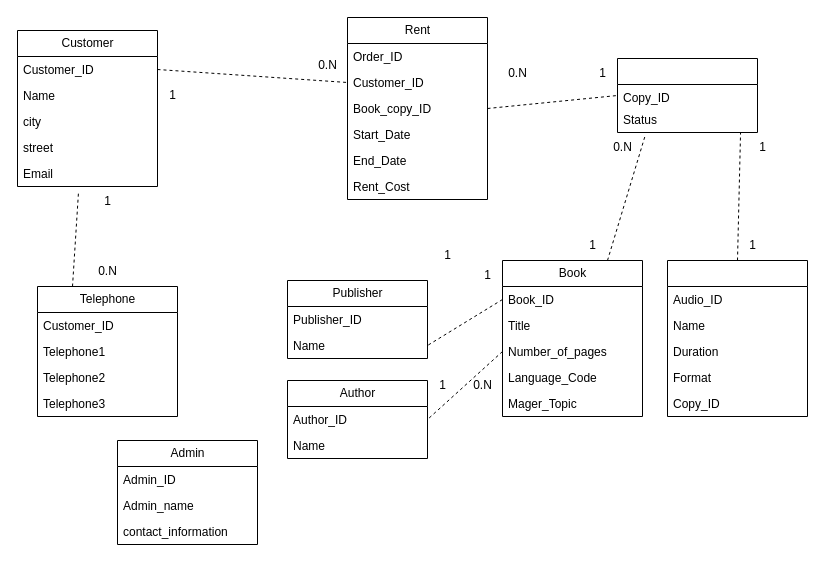
Some shapes in this 825 by 565 pixel diagram are drawn without their labels. The box of each missing label's shape, as (x1, y1, x2, y2) in pixels:
Audio_Book: (666, 260, 808, 416)
Book_Copy: (616, 58, 758, 132)
